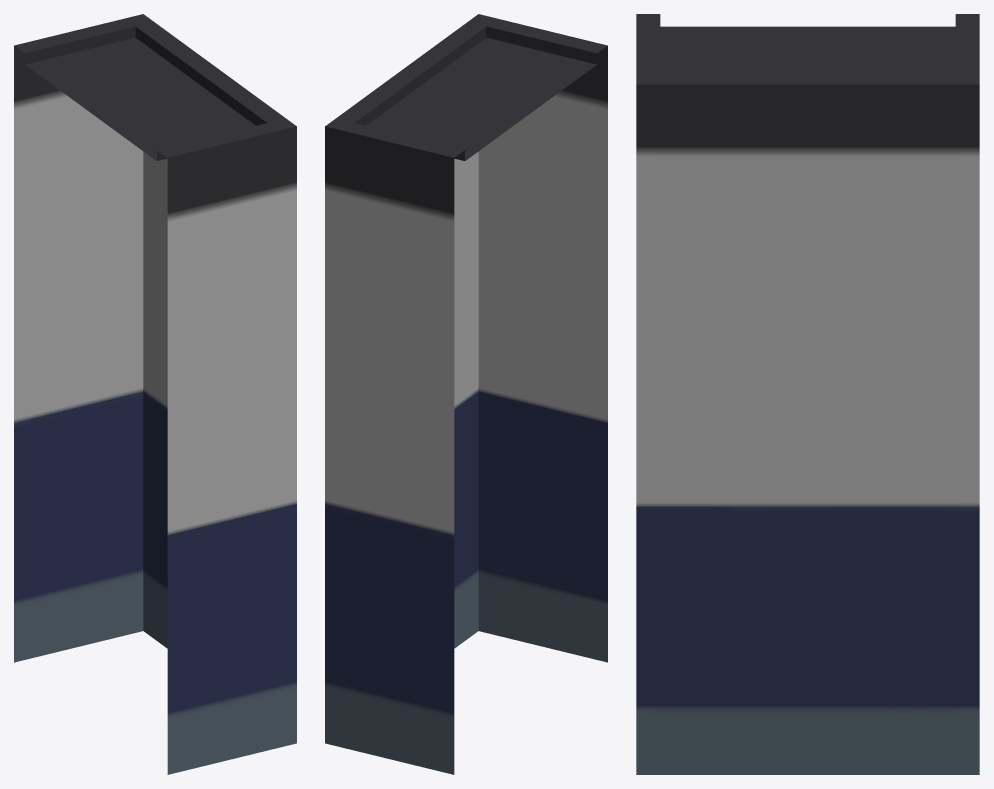
Rendered from Parede1Fim.fbx.
The picture shows the model from 3 angles, left to right: view 1: azimuth 30°, elevation 25°; view 2: azimuth 150°, elevation 25°; view 3: azimuth 270°, elevation 25°; orthographic projection. The views are drawn at different scales.
Visible parts, largest first — view 1: Parede1Fim; view 2: Parede1Fim; view 3: Parede1Fim.
Boxes of the visible parts, x1,y1,x2,y2 form: Parede1Fim: [14, 14, 296, 774]; Parede1Fim: [325, 14, 607, 774]; Parede1Fim: [636, 14, 979, 774].
Size of the model in its own units: 64.76 by 295 by 133.
